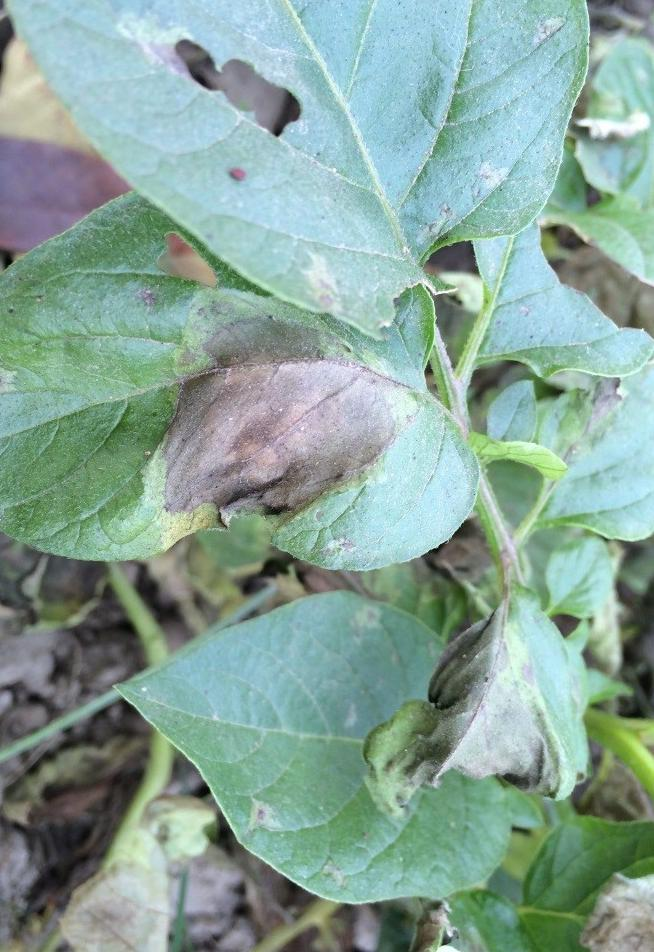Tomato leaf late blight: (122, 345, 503, 586), (371, 579, 604, 812)
